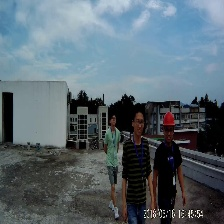helmet: (162, 111, 176, 127)
no-helmet: (131, 101, 147, 125), (110, 110, 118, 122)
no-vest: (126, 141, 149, 205), (159, 145, 179, 203), (107, 130, 119, 166)
person: (125, 106, 149, 223), (158, 111, 180, 208), (105, 110, 122, 213)
